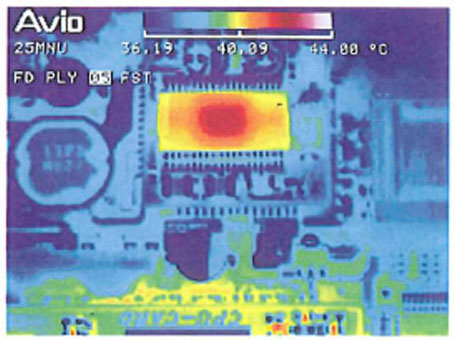componente_T: (151, 87, 296, 158), (220, 12, 270, 29)
